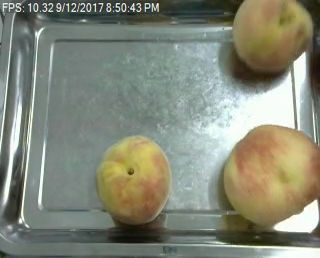Peach: (221, 122, 318, 228), (95, 135, 171, 224), (231, 0, 313, 74)
